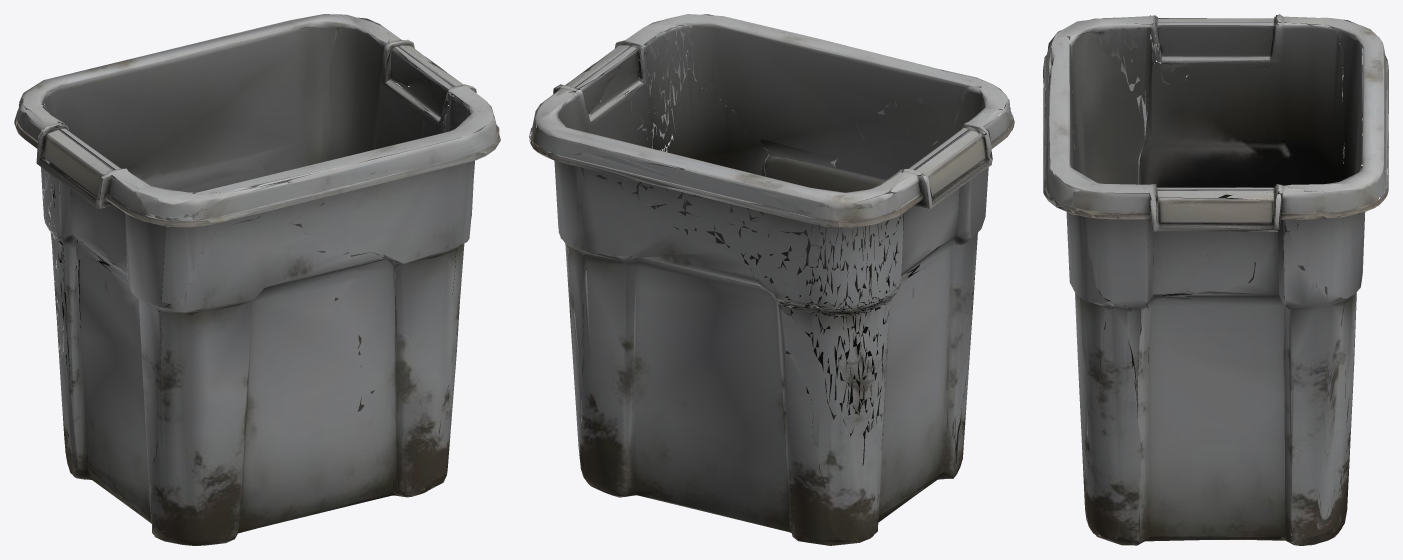
The model's file is bins_lod0.glb.
The picture shows the model from 3 angles, left to right: view 1: azimuth 30°, elevation 25°; view 2: azimuth 150°, elevation 25°; view 3: azimuth 270°, elevation 25°; orthographic projection.
Parts seen in each view (by area): view 1: node_0; view 2: node_0; view 3: node_0.
Part boxes in pixels (left/top/right/bottom): node_0: left=14, top=14, right=500, bottom=545; node_0: left=529, top=14, right=1014, bottom=545; node_0: left=1043, top=14, right=1388, bottom=545.
Bounding box in the file's own units: 1.08 × 1 × 0.8374.
Materials: 1 (1 with a texture image).
